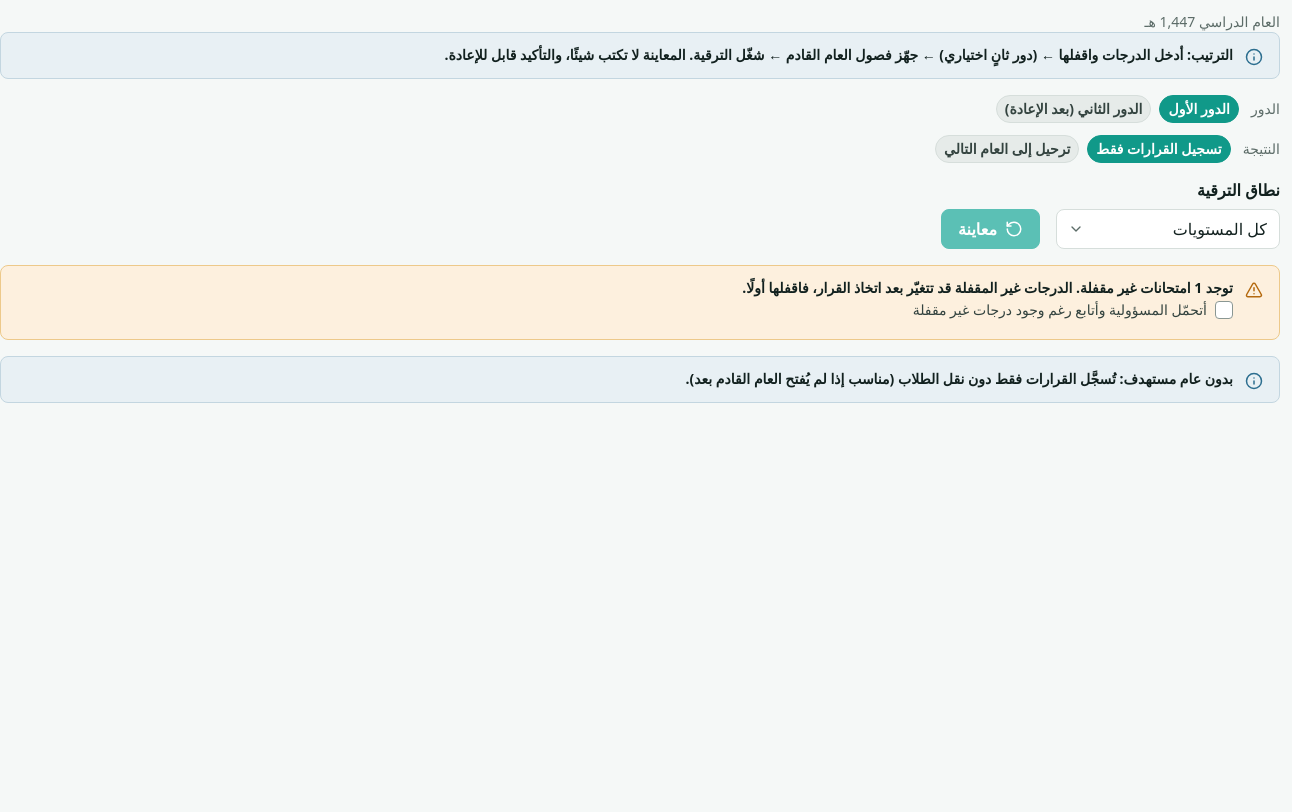
Test: PromotionPage › runs across every level — no levelId — and shows carried-forward subjects
Click the checkbox at (1073, 310), box [913,300,1233,320]
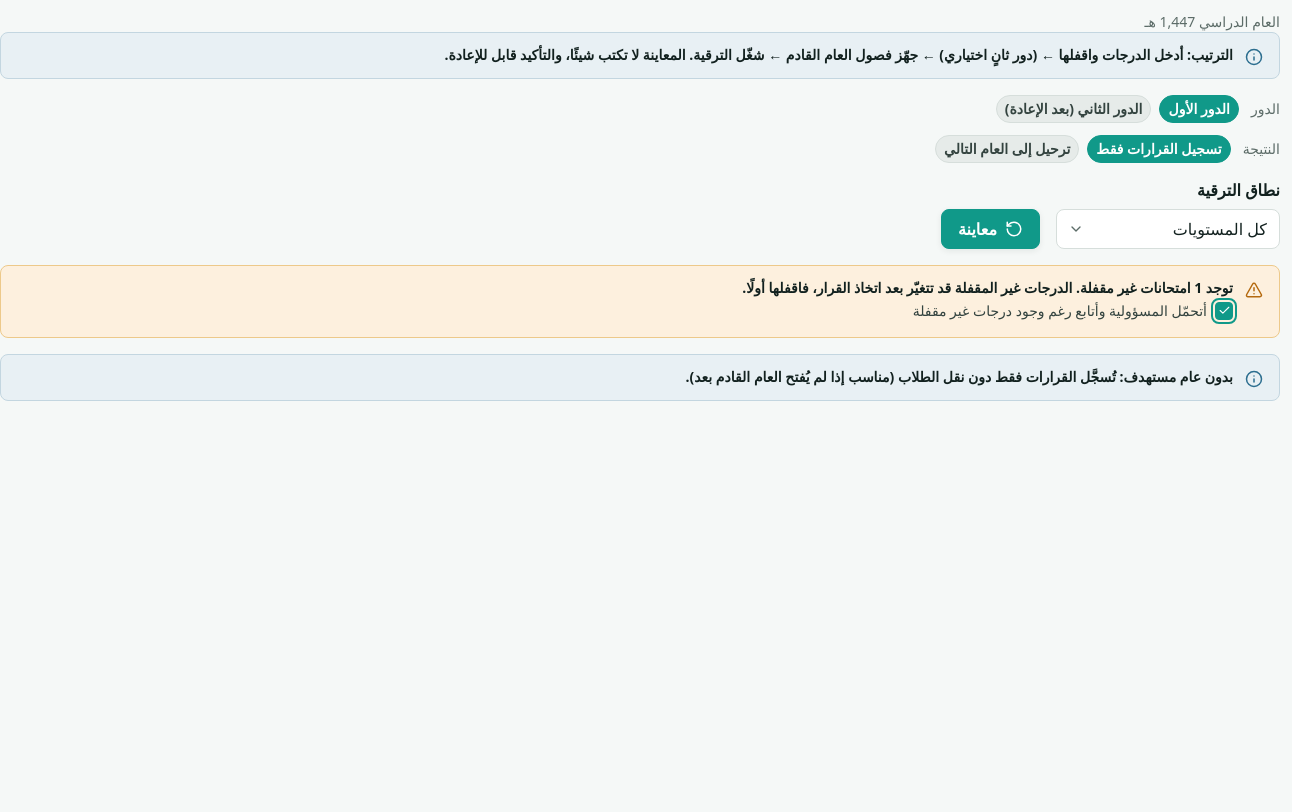
Click the button "معاينة" at (990, 229), box [941,209,1040,249]
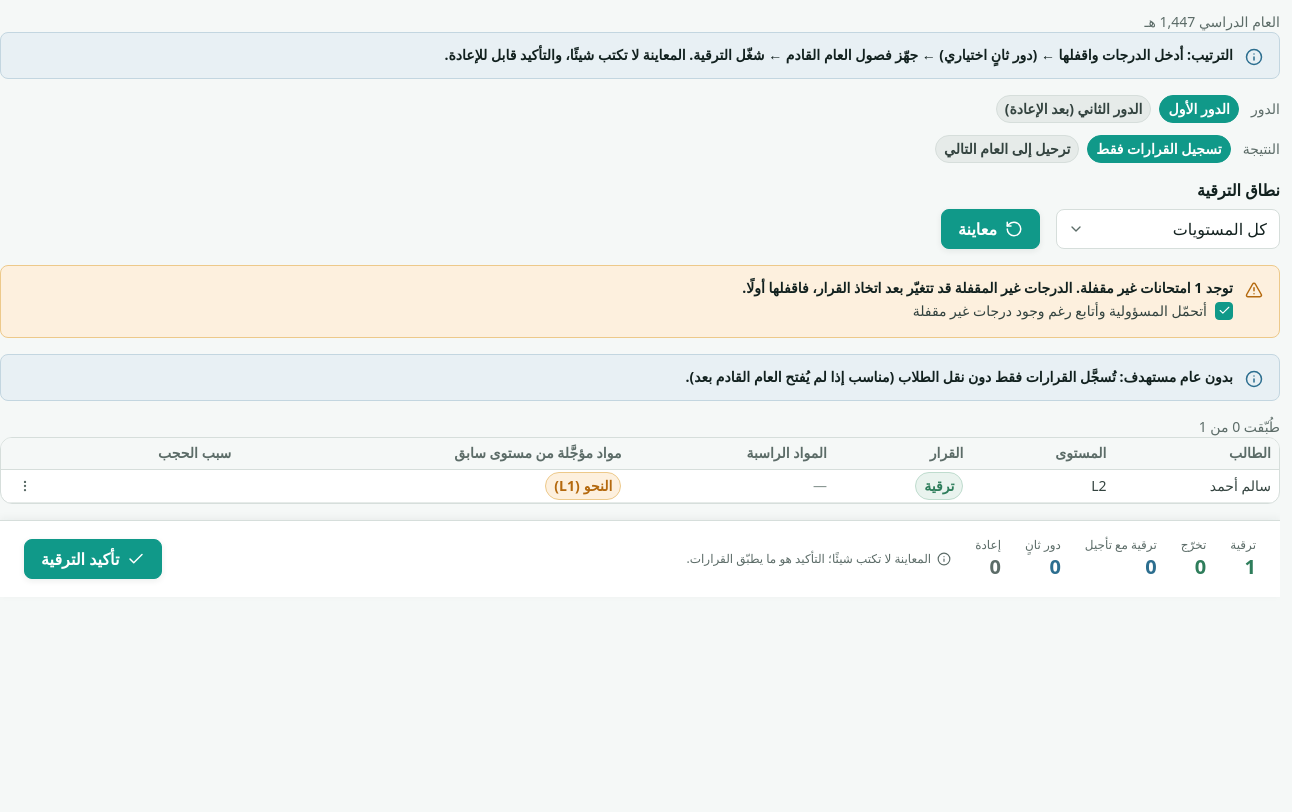
expect the text "النحو (L1)" is shown: met, box [545,472,621,500]
